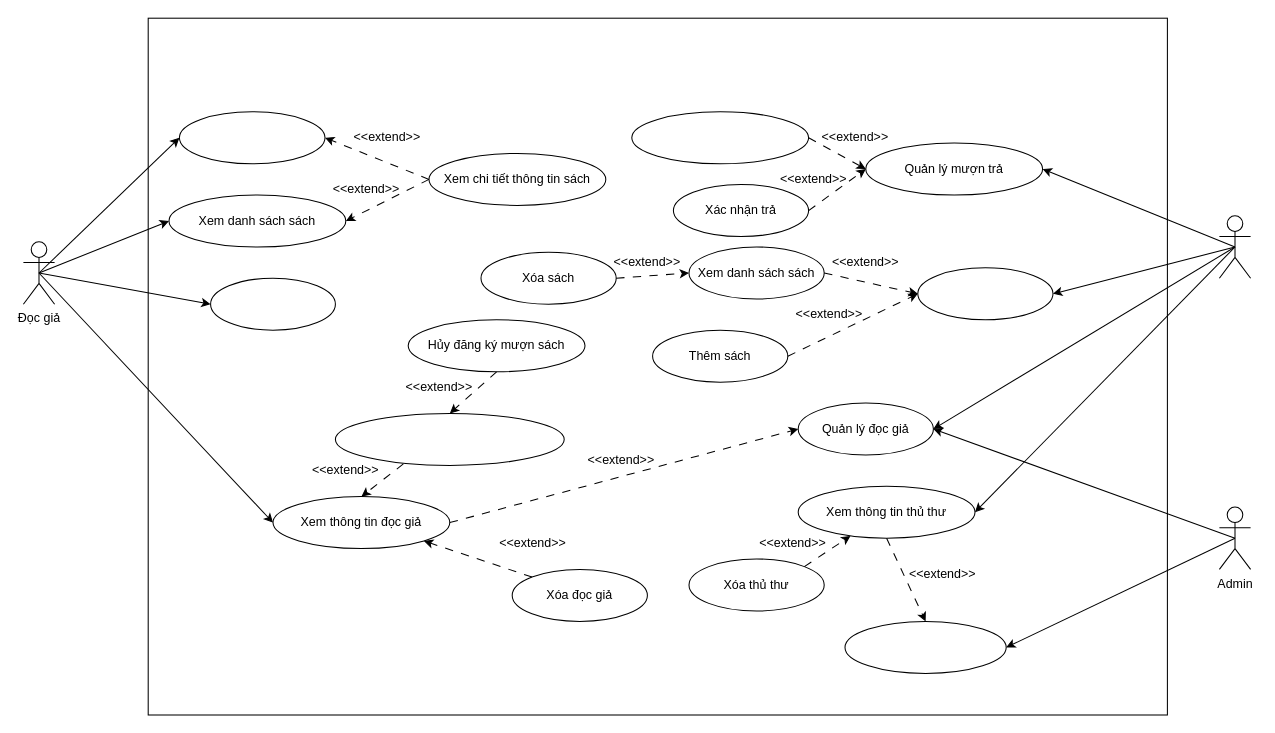
This 1275x733 diagram has some shape labels left out. Here are the shapes that lost their labels. From the top down, the centre of each, then its label:
At (251,137): "Đăng ký mượn sách".
At (720,137): "Xác nhận mượn".
At (1234,246): "Thủ thư".
At (272,303): "Gia hạn sách".
At (985,293): "Quản lý sách".
At (449,438): "Xem lịch sử mượn, đăng ký sách".
At (925,646): "Quản lý nhân sự".
